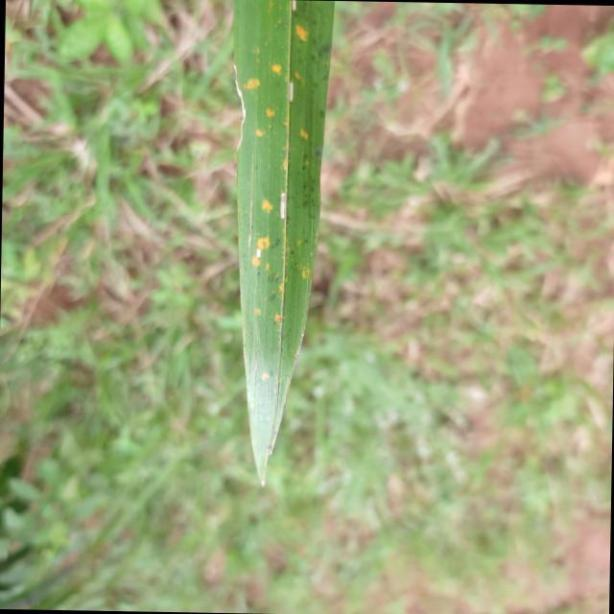Kalium: (227, 0, 335, 497)
